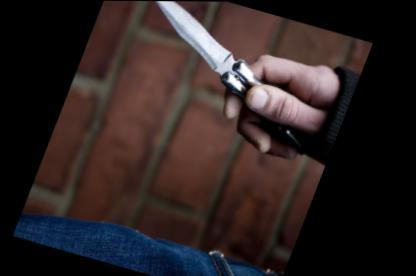knife: (98, 1, 309, 128)
